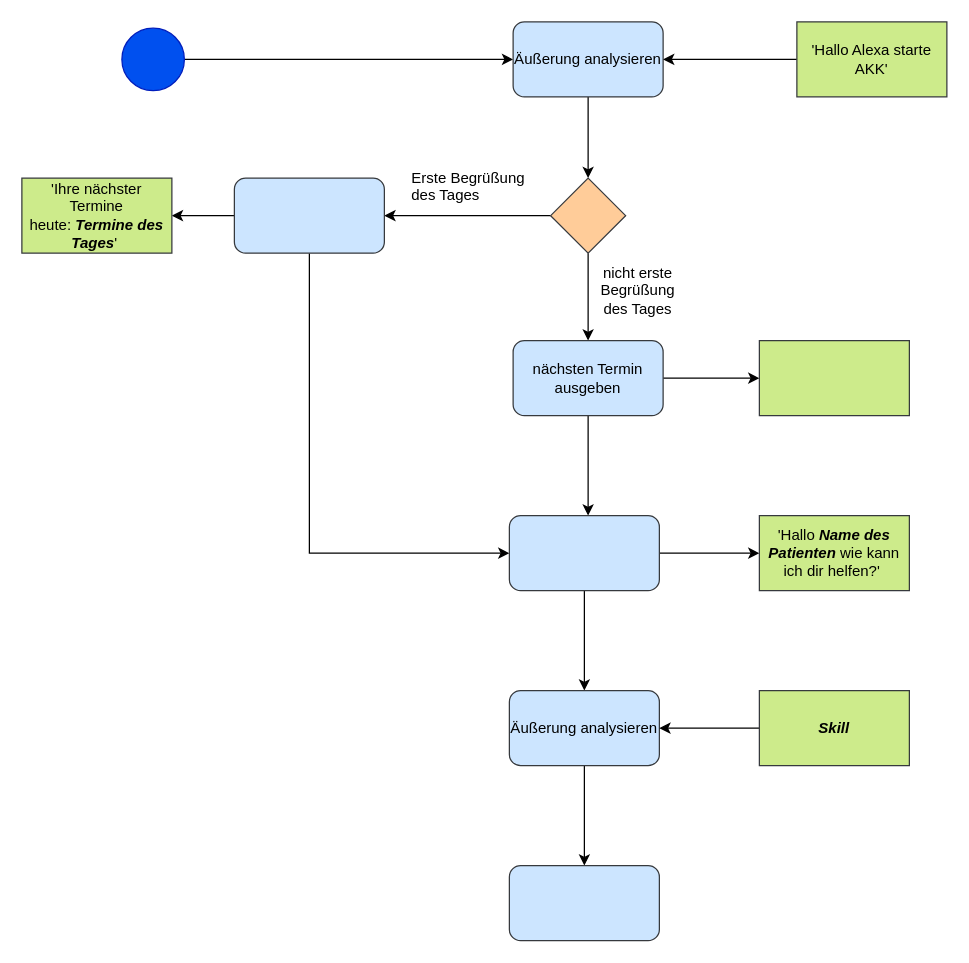
This 969x963 diagram has some shape labels left out. Here are the shapes that lost their labels. From the top down, the centre of each, then its label:
At (308,215): "Alle Termine des Tages Aufzählen".
At (833,377): "'Ihr nächster Termin: Nächster Termin '".
At (583,552): "Alzheimerpatienten nach Komando fragen".
At (583,902): "Passenden Skill wählen".
